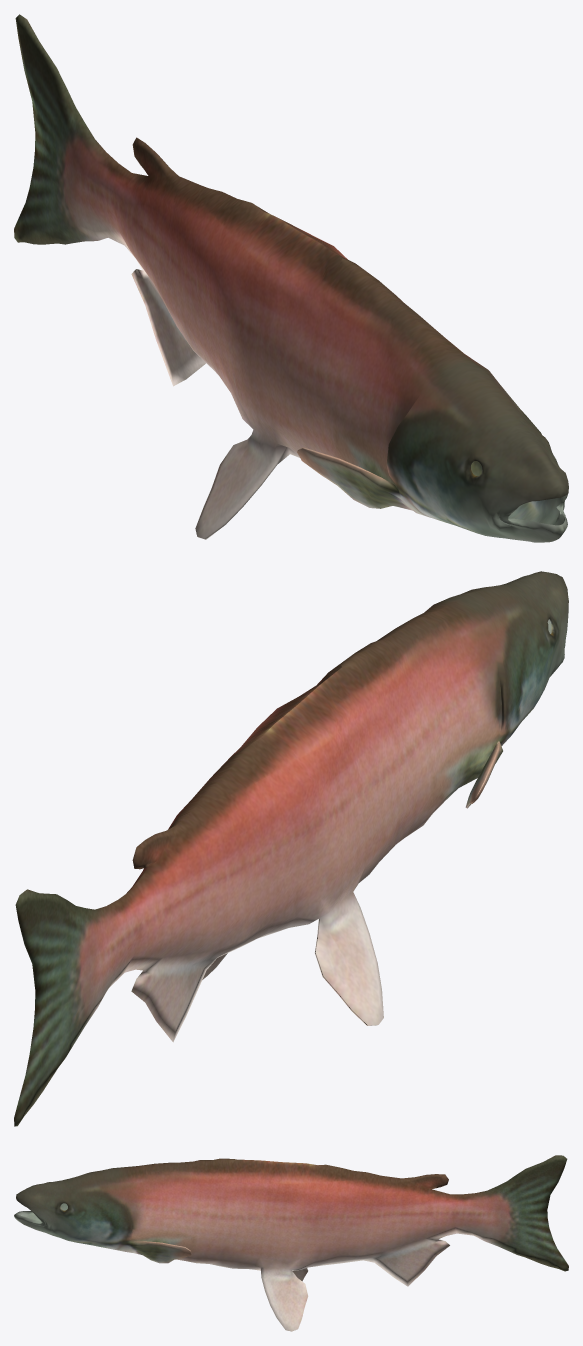
The model's file is FishSim.fbx.
3 renders of one model, top to bottom at view 1: azimuth 30°, elevation 25°; view 2: azimuth 150°, elevation 25°; view 3: azimuth 270°, elevation 25°, orthographic. The views are drawn at different scales.
Visible parts, largest first — view 1: sal_body; view 2: sal_body; view 3: sal_body.
Part boxes in pixels (<box>): sal_body: <box>14,14,568,542</box>; sal_body: <box>14,571,568,1126</box>; sal_body: <box>14,1155,568,1331</box>.
Bounding box in the file's own units: 1.02 × 1.63 × 5.3.
